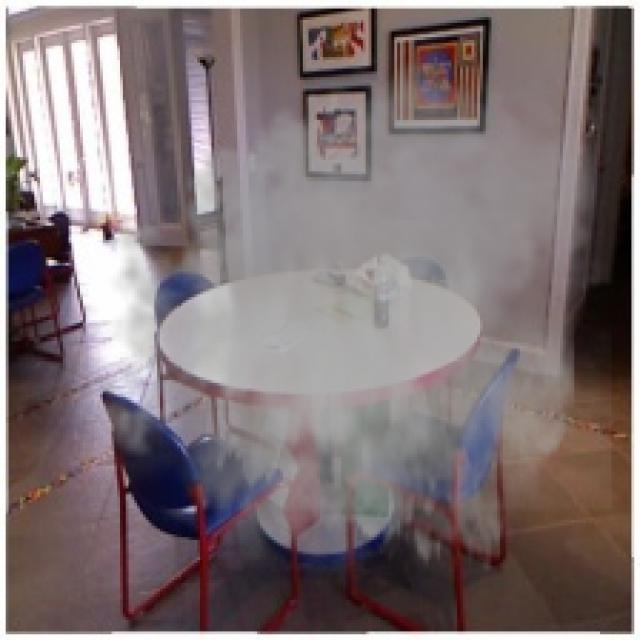smoke: (80, 43, 611, 608)
